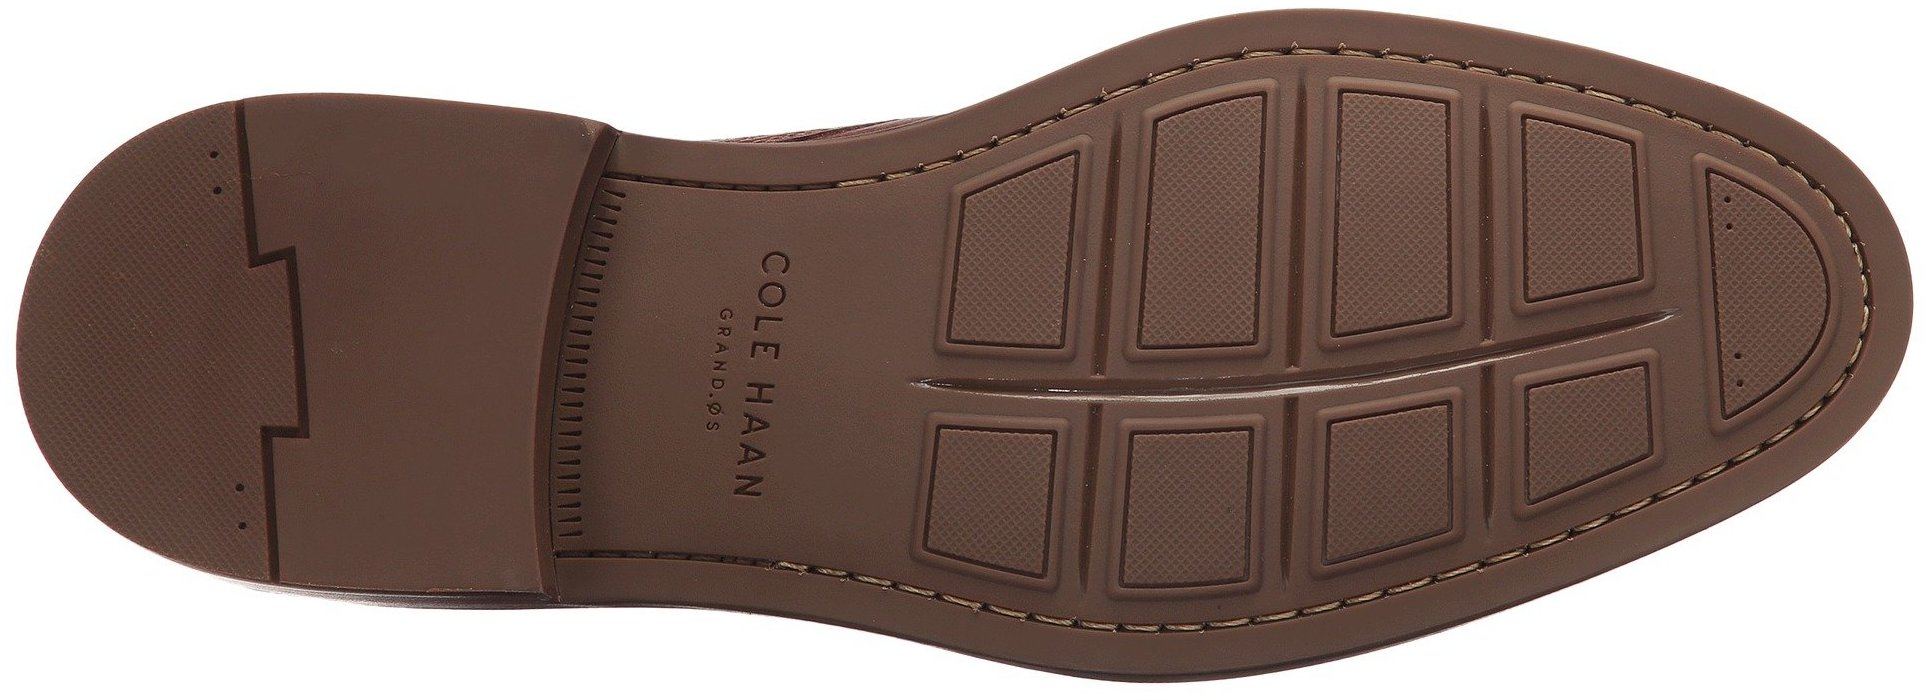circle: (661, 221, 859, 488)
quad: (887, 107, 1420, 581)
text: (661, 221, 859, 488)
